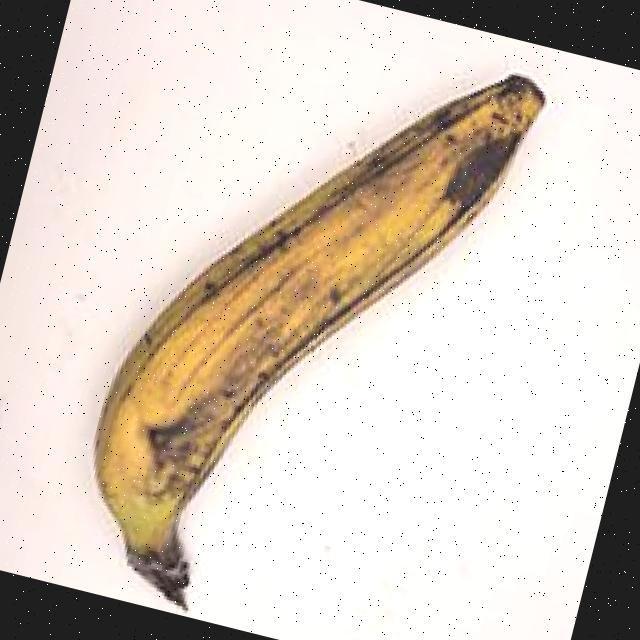Overripe: (40, 0, 582, 640)
